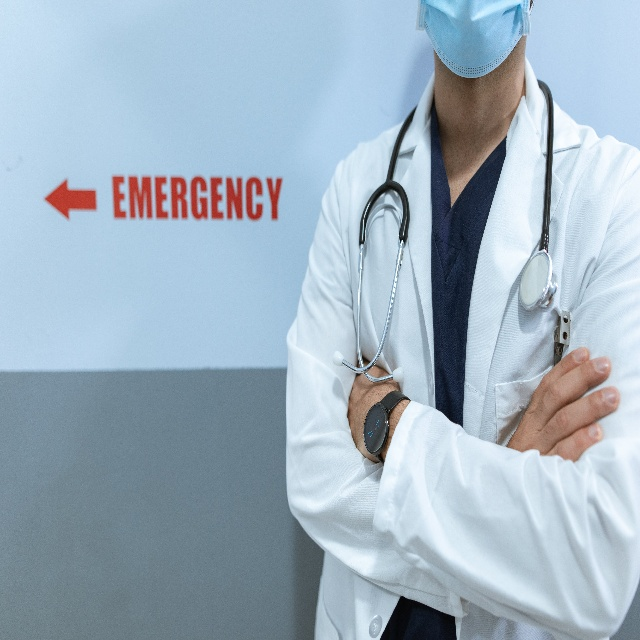Mascara: (419, 0, 529, 83)
Sin_guantes: (513, 343, 615, 461), (345, 363, 388, 455)
